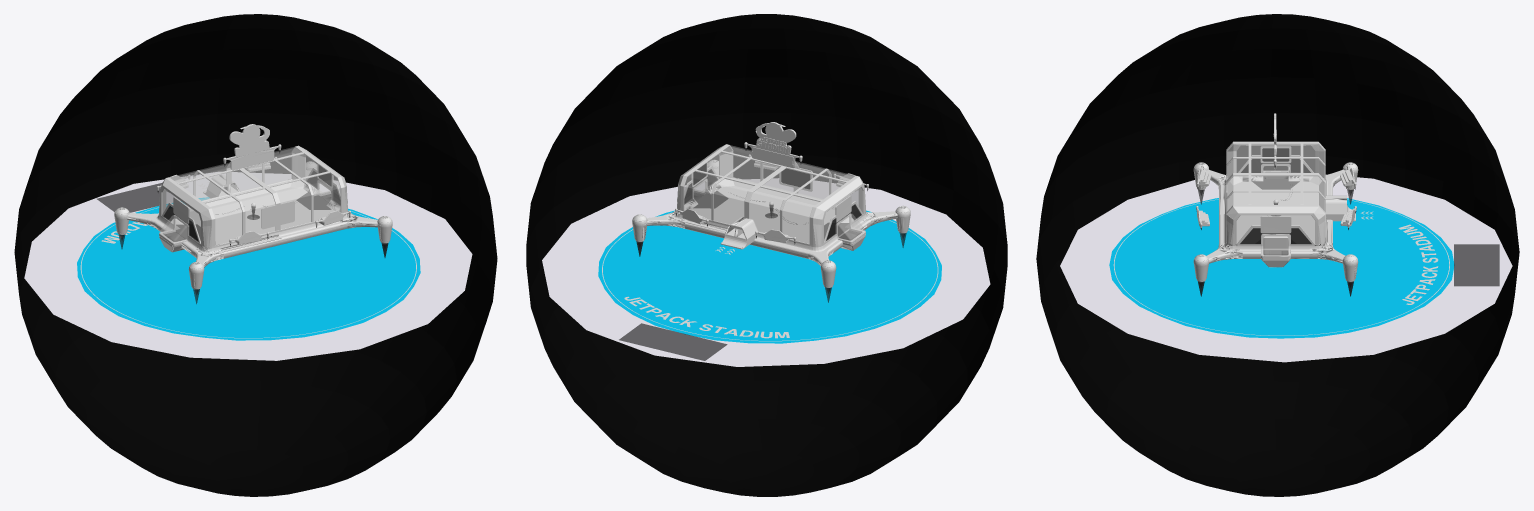
The model's file is ver2 1.fbx.
3 views of the same model, side by side, from view 1: azimuth 30°, elevation 25°; view 2: azimuth 150°, elevation 25°; view 3: azimuth 270°, elevation 25° (orthographic).
Visible parts, largest first — view 1: Sky.001_Sky_0, Ocean.001_Ocean_0, Grid.001_Grid_0, Booster Arm Orange.003_JS_Palette2_0.373, FF Main Body.002_HexPat_0, Wall Goal Orange.001_JS_Palette2_0, JS_Sign_JS_Palette2_0, Logo.001_JS_Alpha_0, Body.011_JS_Palette2_0, Line Graphics.001_JS_Palette2_0, Goal Sensors.004_JS_Alpha_0, FF Main Body.004_HexPat_0 (+1 smaller); view 2: Sky.001_Sky_0, Ocean.001_Ocean_0, Grid.001_Grid_0, Booster Arm Orange.003_JS_Palette2_0.373, FF Main Body.002_HexPat_0, Wall Goal Orange.001_JS_Palette2_0, Logo.001_JS_Alpha_0, JS_Sign_JS_Palette2_0, Line Graphics.001_JS_Palette2_0, Body.011_JS_Palette2_0, Goal Sensors.004_JS_Alpha_0, Wall Goal Orange.002_Screen_0 (+2 smaller); view 3: Sky.001_Sky_0, Ocean.001_Ocean_0, Grid.001_Grid_0, Booster Arm Orange.003_JS_Palette2_0.373, FF Main Body.002_HexPat_0, Wall Goal Orange.001_JS_Palette2_0, Logo.001_JS_Alpha_0, Line Graphics.001_JS_Palette2_0, Goal Sensors.004_JS_Alpha_0, Goal Sensors.002_JS_Alpha_0, Body.011_JS_Palette2_0, FF Main Body.003_HexPat_0.
Part boxes in pixels (x1=…): Sky.001_Sky_0: x1=14, y1=14, x2=497, y2=496; Ocean.001_Ocean_0: x1=77, y1=197, x2=420, y2=340; Grid.001_Grid_0: x1=24, y1=172, x2=472, y2=360; Booster Arm Orange.003_JS_Palette2_0.373: x1=114, y1=161, x2=392, y2=289; FF Main Body.002_HexPat_0: x1=162, y1=147, x2=340, y2=244; Wall Goal Orange.001_JS_Palette2_0: x1=159, y1=145, x2=347, y2=246; JS_Sign_JS_Palette2_0: x1=223, y1=124, x2=281, y2=170; Logo.001_JS_Alpha_0: x1=97, y1=183, x2=161, y2=212; Body.011_JS_Palette2_0: x1=157, y1=157, x2=350, y2=244; Line Graphics.001_JS_Palette2_0: x1=80, y1=198, x2=416, y2=338; Goal Sensors.004_JS_Alpha_0: x1=297, y1=171, x2=340, y2=209; FF Main Body.004_HexPat_0: x1=159, y1=215, x2=187, y2=242; Sky.001_Sky_0: x1=526, y1=14, x2=1007, y2=496; Ocean.001_Ocean_0: x1=598, y1=210, x2=941, y2=343; Grid.001_Grid_0: x1=542, y1=178, x2=990, y2=366; Booster Arm Orange.003_JS_Palette2_0.373: x1=632, y1=160, x2=910, y2=287; FF Main Body.002_HexPat_0: x1=684, y1=145, x2=862, y2=243; Wall Goal Orange.001_JS_Palette2_0: x1=677, y1=144, x2=866, y2=245; Logo.001_JS_Alpha_0: x1=619, y1=323, x2=727, y2=360; JS_Sign_JS_Palette2_0: x1=744, y1=122, x2=802, y2=168; Line Graphics.001_JS_Palette2_0: x1=602, y1=212, x2=938, y2=341; Body.011_JS_Palette2_0: x1=675, y1=154, x2=868, y2=242; Goal Sensors.004_JS_Alpha_0: x1=684, y1=169, x2=728, y2=208; Wall Goal Orange.002_Screen_0: x1=693, y1=163, x2=810, y2=189; Sky.001_Sky_0: x1=1036, y1=14, x2=1519, y2=496; Ocean.001_Ocean_0: x1=1109, y1=198, x2=1454, y2=338; Grid.001_Grid_0: x1=1060, y1=174, x2=1512, y2=362; Booster Arm Orange.003_JS_Palette2_0.373: x1=1193, y1=162, x2=1358, y2=281; FF Main Body.002_HexPat_0: x1=1227, y1=144, x2=1324, y2=243; Wall Goal Orange.001_JS_Palette2_0: x1=1226, y1=141, x2=1325, y2=244; Logo.001_JS_Alpha_0: x1=1454, y1=244, x2=1499, y2=286; Line Graphics.001_JS_Palette2_0: x1=1113, y1=199, x2=1449, y2=335; Goal Sensors.004_JS_Alpha_0: x1=1240, y1=228, x2=1311, y2=254; Goal Sensors.002_JS_Alpha_0: x1=1241, y1=159, x2=1310, y2=189; Body.011_JS_Palette2_0: x1=1196, y1=165, x2=1356, y2=227; FF Main Body.003_HexPat_0: x1=1261, y1=235, x2=1290, y2=255.
Bounding box in the file's own units: 169748 × 169891 × 169748.
